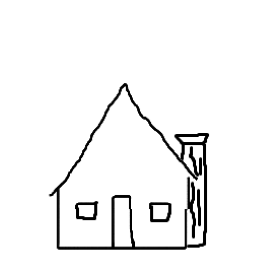bottom_placed_house: (1, 2, 260, 260)
chimney: (171, 120, 220, 178)
door: (102, 181, 143, 254)
open_window: (70, 199, 100, 225), (147, 195, 172, 226)
single_line_roof: (42, 79, 209, 193)
wall: (53, 160, 191, 255)
